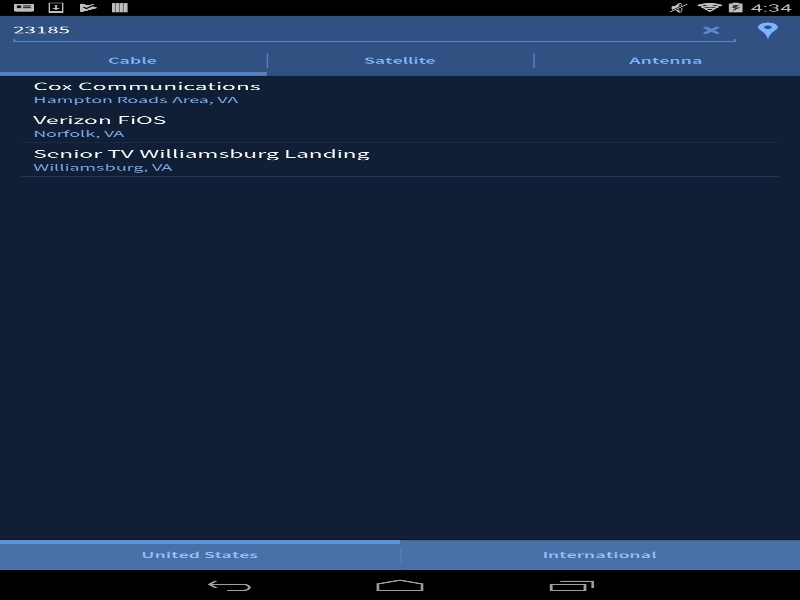Input: (13, 23, 689, 36)
